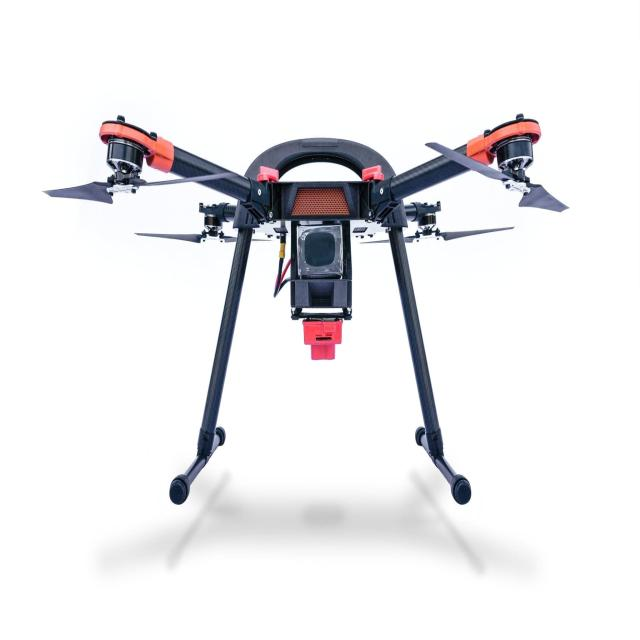drone: (53, 91, 574, 313)
